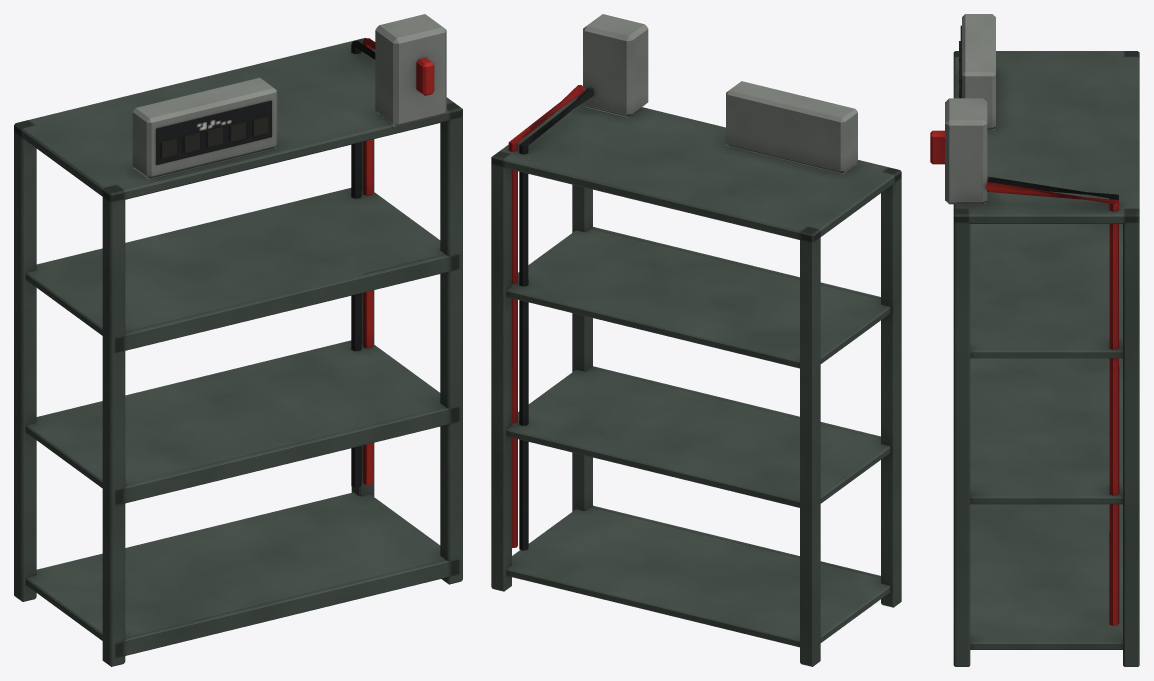
Rendered from RenewableEnergy_BatteryBank.fbx.
3 views of the same model, side by side, from view 1: azimuth 30°, elevation 25°; view 2: azimuth 150°, elevation 25°; view 3: azimuth 270°, elevation 25° (orthographic). The views are drawn at different scales.
Parts seen in each view (by area): view 1: BatteryBank; view 2: BatteryBank; view 3: BatteryBank.
Boxes of the visible parts, bbox=[...] form: BatteryBank: bbox=[14, 14, 462, 666]; BatteryBank: bbox=[491, 14, 901, 666]; BatteryBank: bbox=[930, 14, 1139, 666].
Size of the model in its own units: 0.92 by 1.4 by 0.495.
